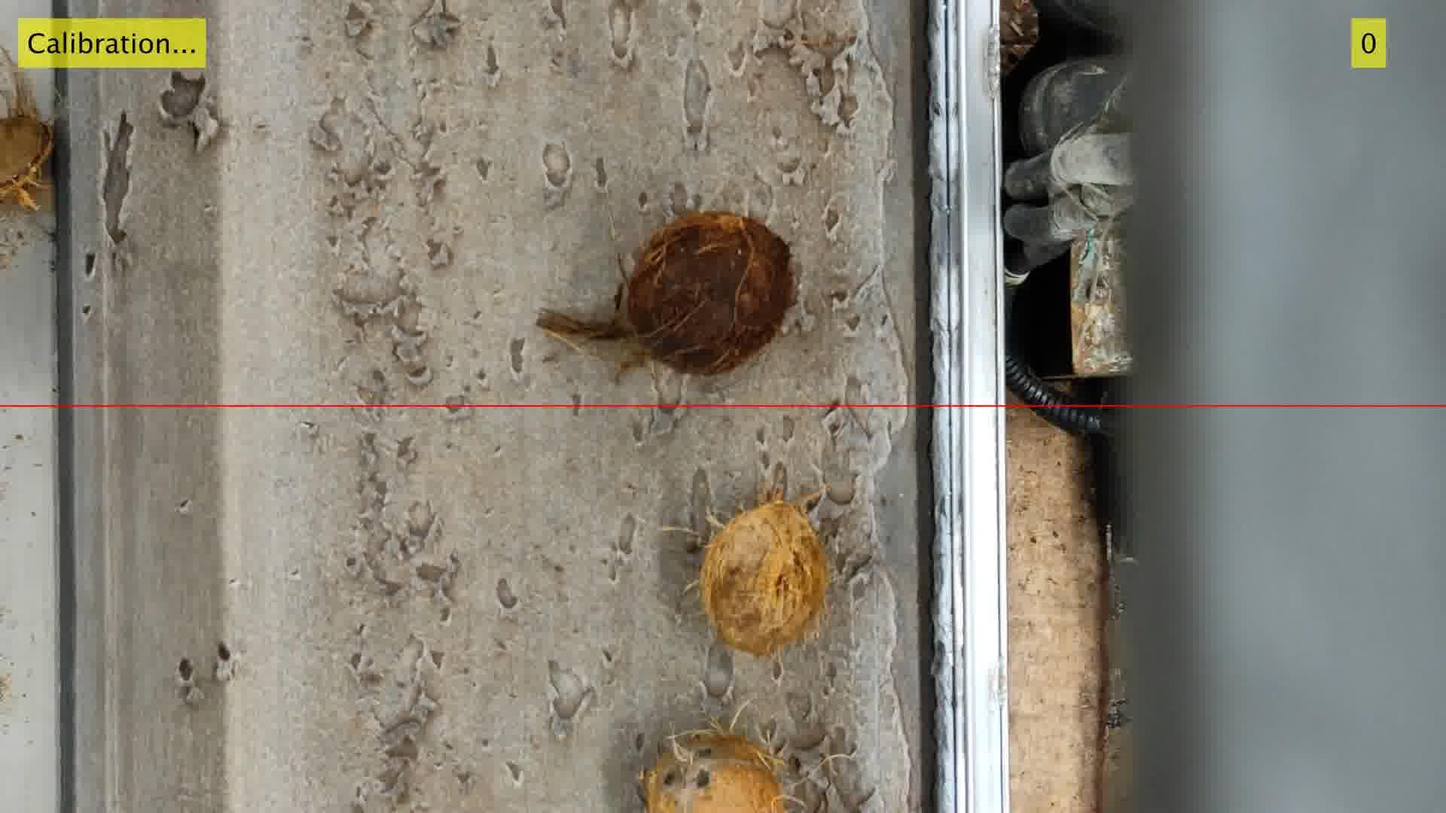Coconut: (537, 211, 796, 374), (697, 498, 837, 658), (639, 729, 787, 812), (0, 48, 55, 211)
